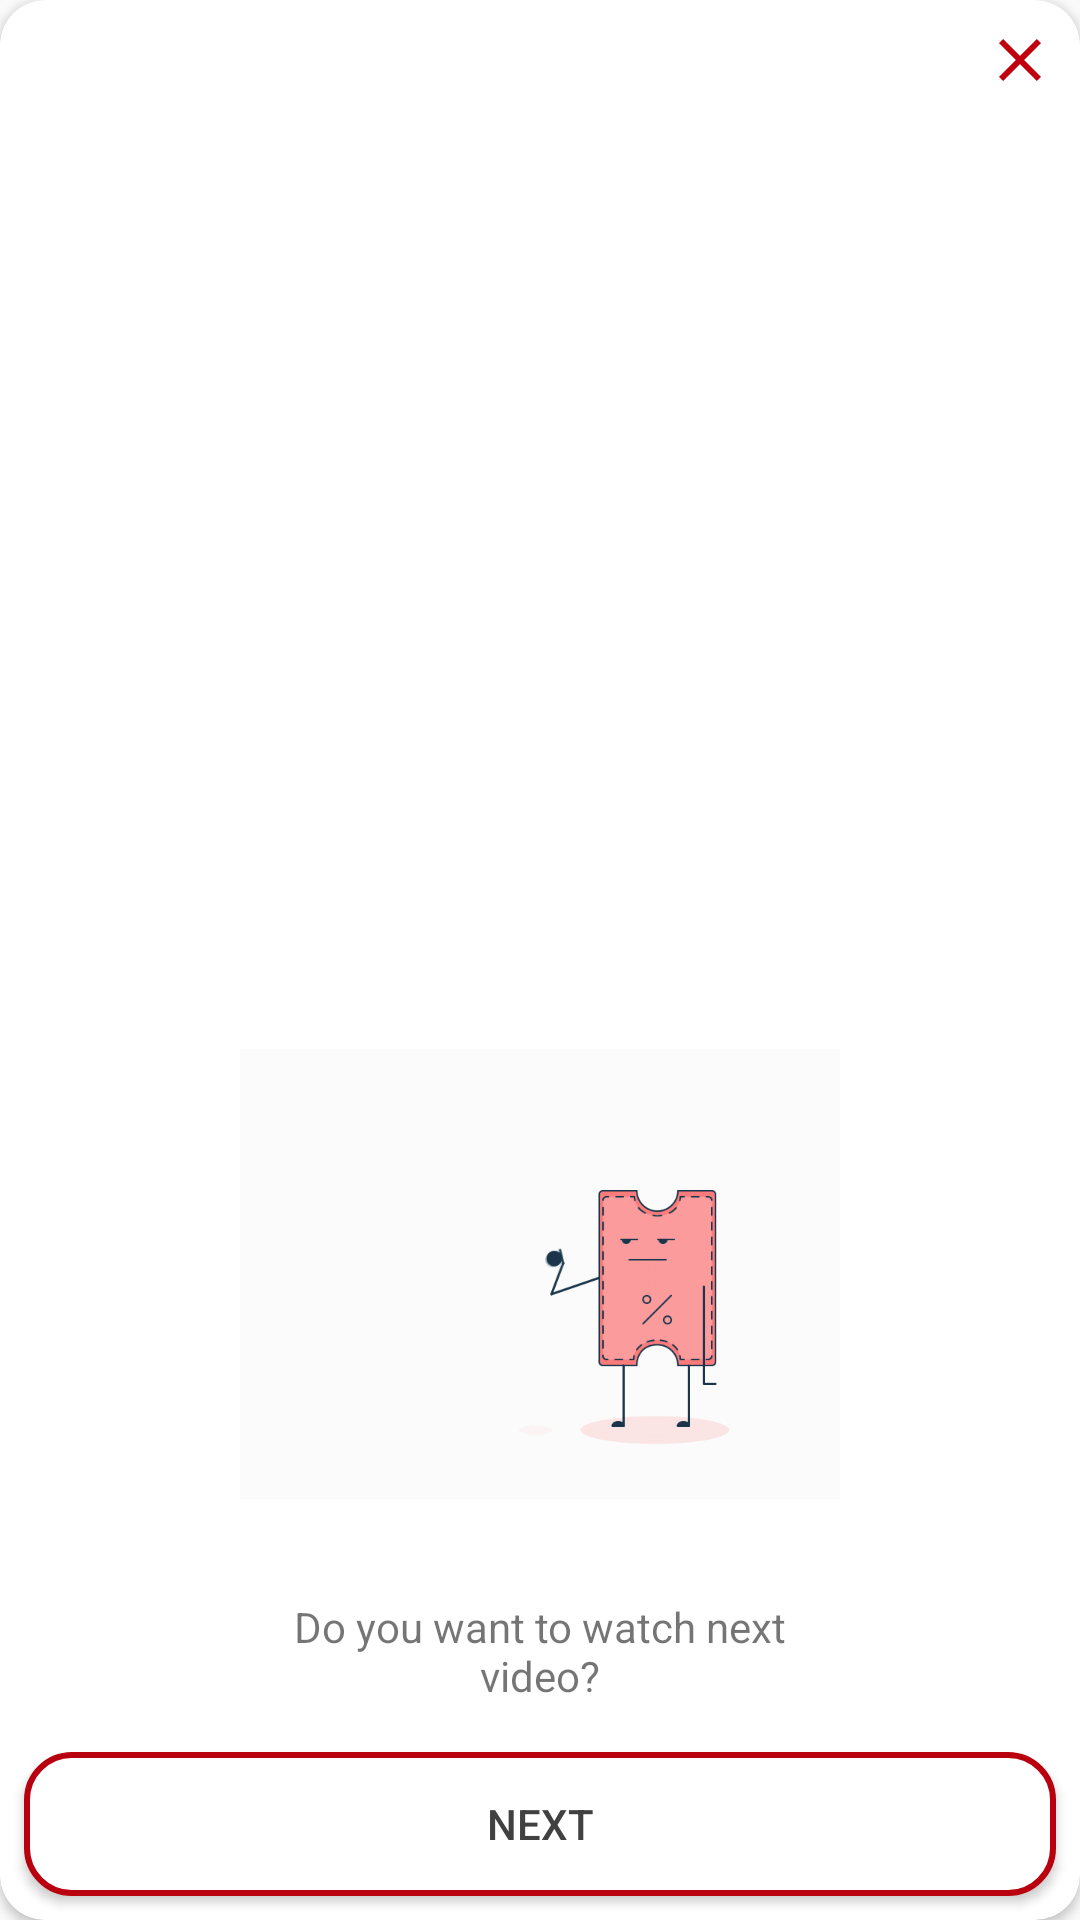

Screen size 1080*1920. Icon name, then its box in pixels as (x1, y1, x2, y2):
close: (999, 39, 1041, 81)
